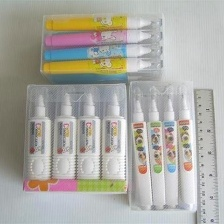correction_fluid: (73, 83, 104, 192), (50, 83, 80, 191), (129, 86, 155, 210), (23, 84, 52, 193), (100, 83, 127, 193), (145, 85, 168, 210), (175, 81, 197, 211), (42, 27, 164, 50), (160, 84, 181, 208), (42, 42, 163, 63), (40, 56, 163, 75), (43, 13, 164, 32), (46, 69, 162, 83)
plastic_box: (20, 80, 130, 196), (37, 9, 167, 85)
